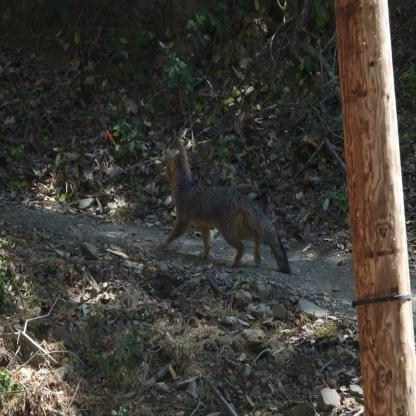zorro: (158, 140, 295, 282)
